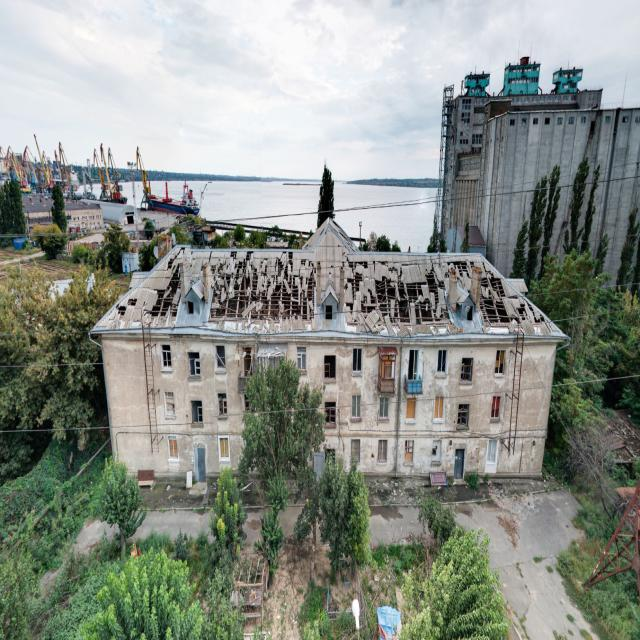broken_window: (460, 357, 474, 388), (485, 440, 498, 473), (381, 353, 396, 379), (407, 348, 419, 380), (456, 404, 469, 430), (188, 352, 201, 377), (218, 435, 230, 462), (436, 350, 447, 376), (434, 396, 445, 422), (495, 350, 506, 375), (490, 396, 501, 420), (325, 403, 337, 425), (160, 345, 171, 369), (352, 348, 362, 373), (165, 392, 175, 417), (168, 435, 178, 459), (217, 394, 227, 417), (432, 441, 442, 464), (378, 440, 387, 464), (379, 397, 388, 420), (352, 396, 361, 418), (297, 347, 306, 368)
building: (100, 333, 558, 477)
damage: (238, 344, 255, 378), (324, 354, 336, 382), (215, 346, 227, 369), (192, 400, 203, 425), (404, 440, 414, 464), (406, 398, 416, 419)
damaged_roof: (91, 216, 570, 341)
other: (0, 331, 541, 640), (176, 0, 640, 249), (330, 0, 640, 260), (176, 0, 425, 247), (520, 340, 640, 640), (484, 254, 640, 411)
roof: (91, 219, 568, 340)
